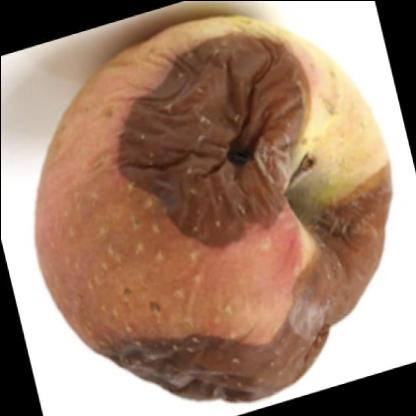defect: (102, 178, 392, 406), (110, 25, 314, 258)
